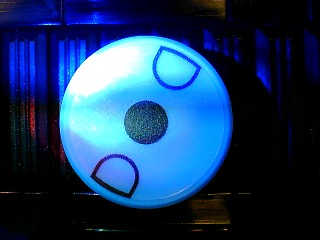BOHOMIPO2: (59, 34, 234, 209)
